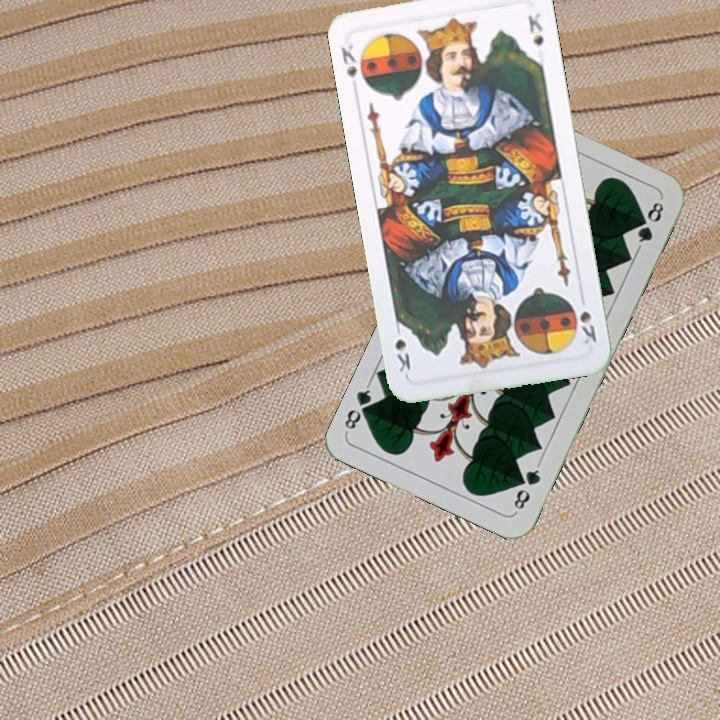G8: (509, 459, 543, 515)
SK: (569, 301, 599, 346), (337, 41, 360, 80)
